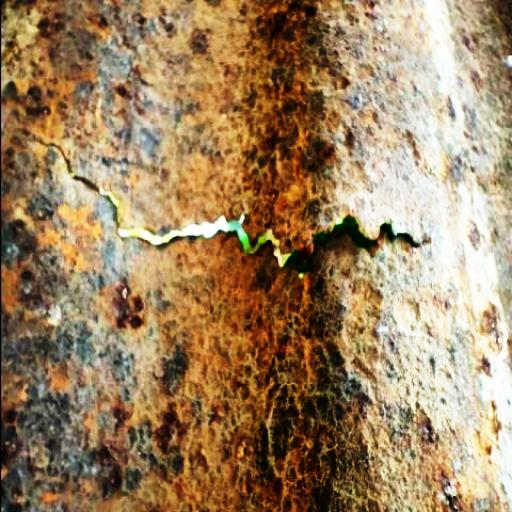crack: (106, 187, 446, 275)
